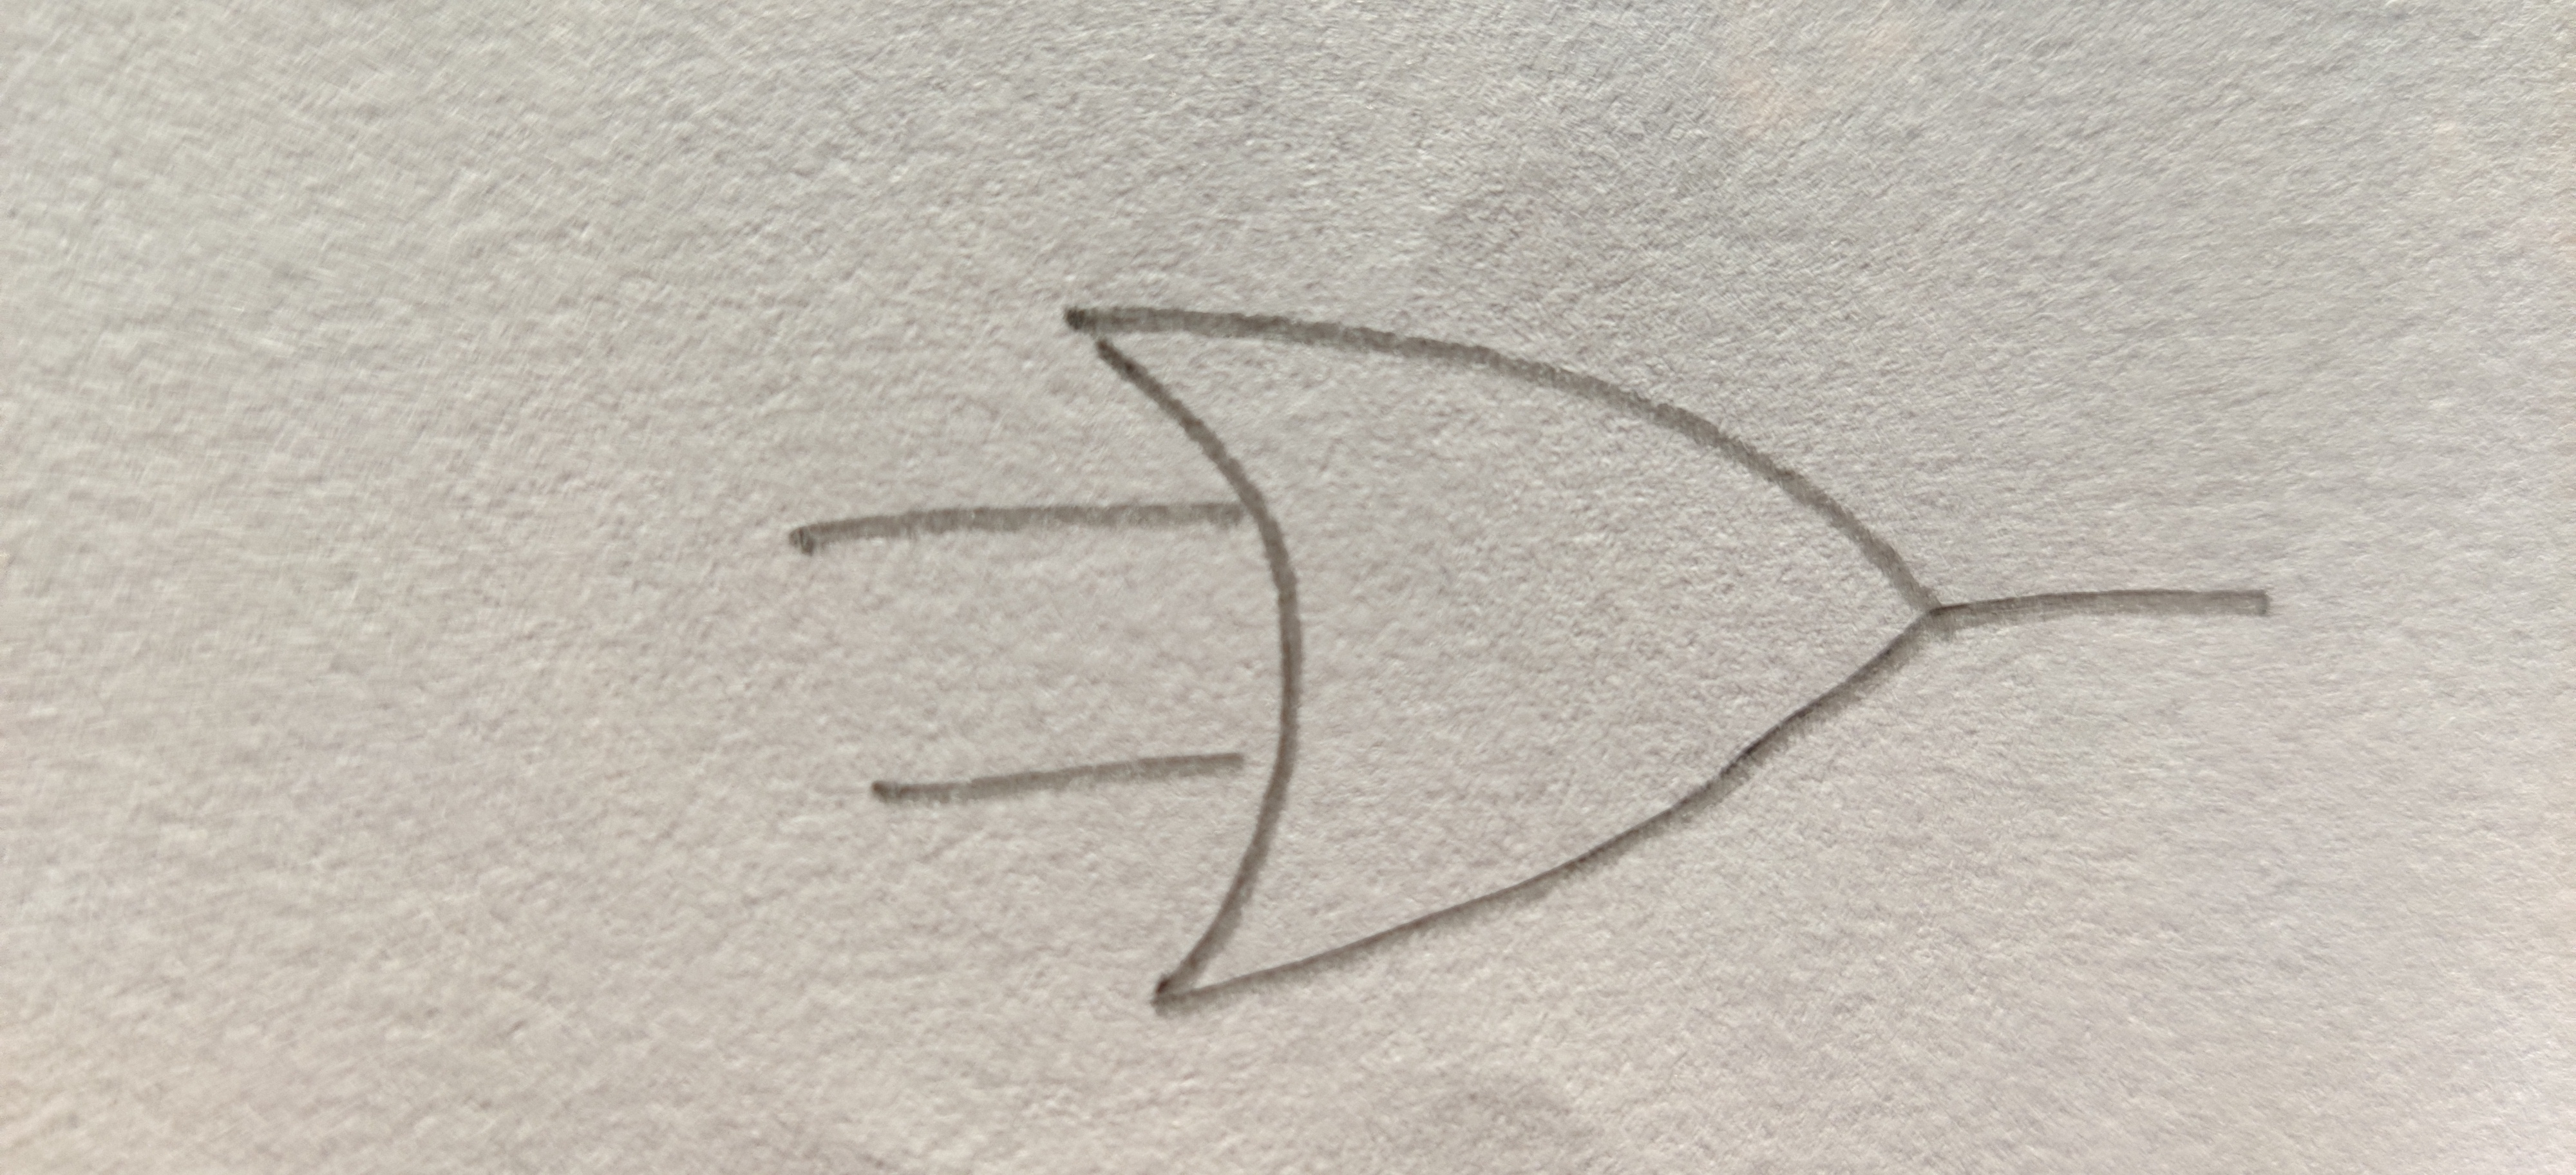or: (1065, 302, 1940, 1017)
